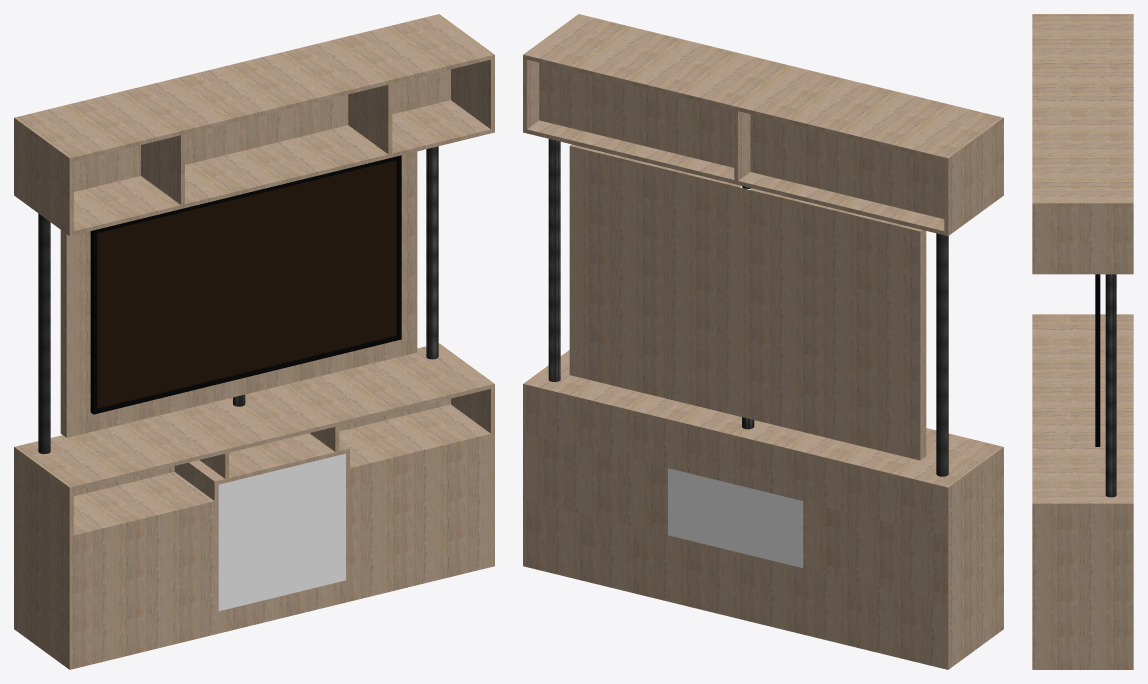
File: MuebleTv2.fbx
3 views of the same model, side by side, from view 1: azimuth 30°, elevation 25°; view 2: azimuth 150°, elevation 25°; view 3: azimuth 270°, elevation 25° (orthographic). The views are drawn at different scales.
Parts seen in each view (by area): view 1: Group1; view 2: Group1; view 3: Group1.
Part boxes in pixels (x1=…): Group1: x1=14, y1=14, x2=494, y2=669; Group1: x1=523, y1=14, x2=1003, y2=669; Group1: x1=1032, y1=14, x2=1133, y2=669.
Size of the model in its own units: 78.22 by 89.95 by 17.72.
